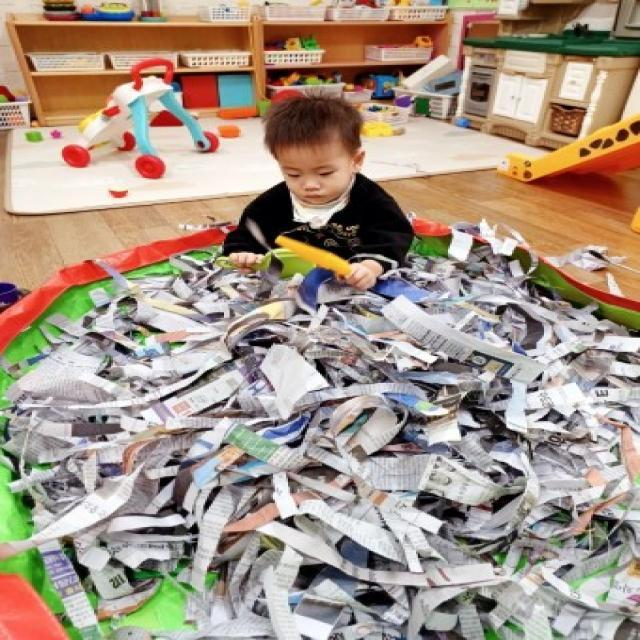reuseable_paper: (133, 328, 589, 596)
